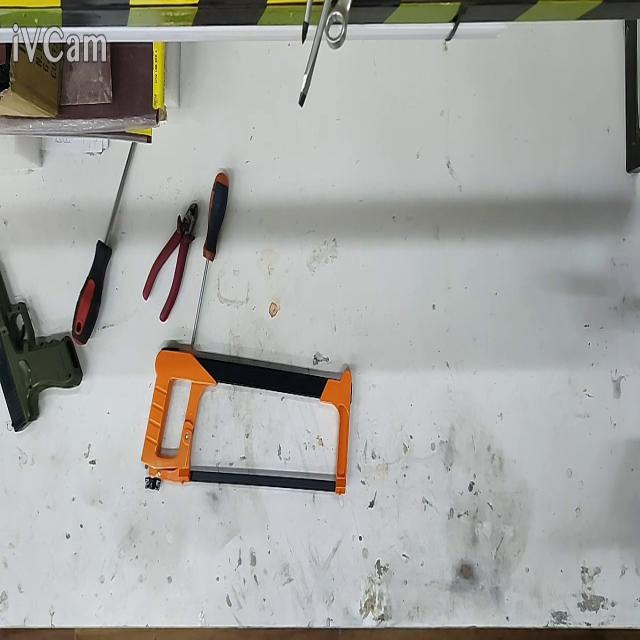Screwdriver: (72, 141, 136, 344), (191, 171, 229, 346)
